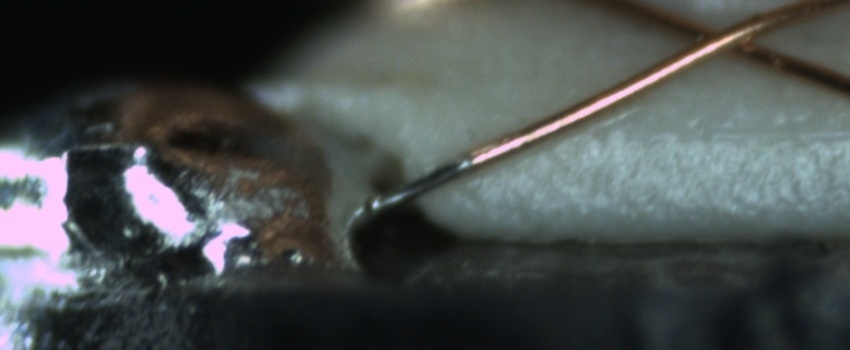CL: (664, 7, 786, 67)
DL: (584, 102, 849, 166)
TS: (365, 156, 475, 214)
TTCW: (369, 150, 492, 214)
